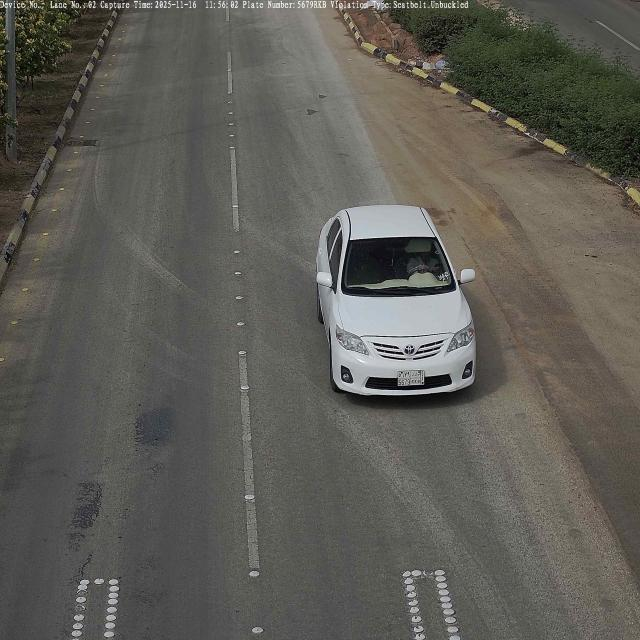person_without_seatbelt: (406, 242, 440, 278)
